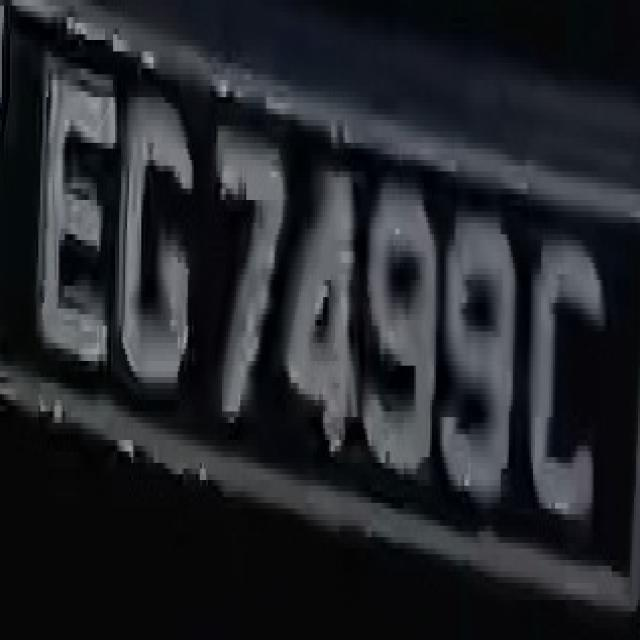4: (285, 103, 355, 463)
7: (206, 97, 283, 440)
9: (357, 131, 440, 486), (436, 183, 519, 508)
C: (525, 217, 604, 549)
E: (36, 29, 109, 394)
G: (111, 69, 198, 417)
